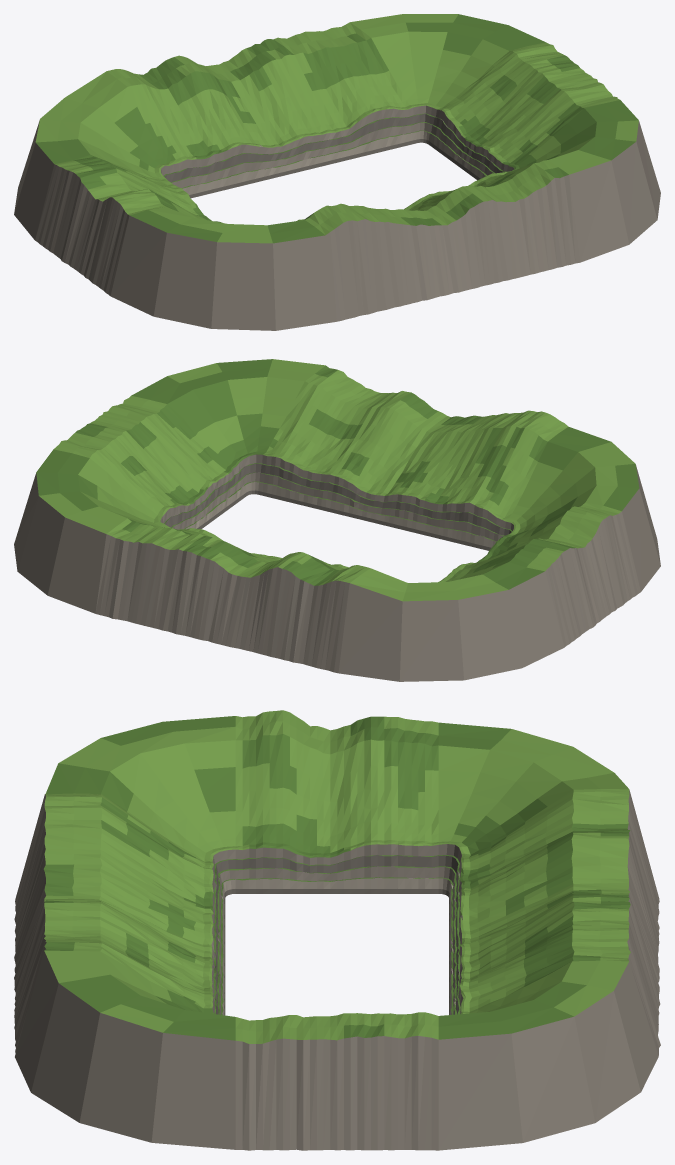
Rendered from CliffRing.fbx.
3 renders of one model, top to bottom at view 1: azimuth 30°, elevation 25°; view 2: azimuth 150°, elevation 25°; view 3: azimuth 270°, elevation 25°, orthographic. The views are drawn at different scales.
Parts seen in each view (by area): view 1: CliffRing_rock, CliffRing_grass, CliffRing_grass_dk, CliffRing_rock_dk, CliffRing_rock_lt; view 2: CliffRing_rock, CliffRing_grass, CliffRing_grass_dk, CliffRing_rock_dk, CliffRing_rock_lt; view 3: CliffRing_grass, CliffRing_rock, CliffRing_grass_dk, CliffRing_rock_dk, CliffRing_rock_lt.
Boxes of the visible parts, x1,y1,x2,y2 form: CliffRing_rock: [14, 105, 660, 330]; CliffRing_grass: [35, 14, 638, 243]; CliffRing_grass_dk: [36, 14, 638, 243]; CliffRing_rock_dk: [164, 114, 504, 198]; CliffRing_rock_lt: [182, 131, 485, 194]; CliffRing_rock: [14, 454, 660, 681]; CliffRing_grass: [39, 359, 635, 601]; CliffRing_grass_dk: [36, 359, 639, 589]; CliffRing_rock_dk: [165, 463, 511, 550]; CliffRing_rock_lt: [185, 482, 495, 547]; CliffRing_grass: [44, 710, 630, 1043]; CliffRing_rock: [14, 790, 660, 1150]; CliffRing_grass_dk: [43, 716, 630, 1040]; CliffRing_rock_dk: [214, 855, 459, 1015]; CliffRing_rock_lt: [221, 877, 453, 1015].
Size of the model in its own units: 953 by 150 by 753.
